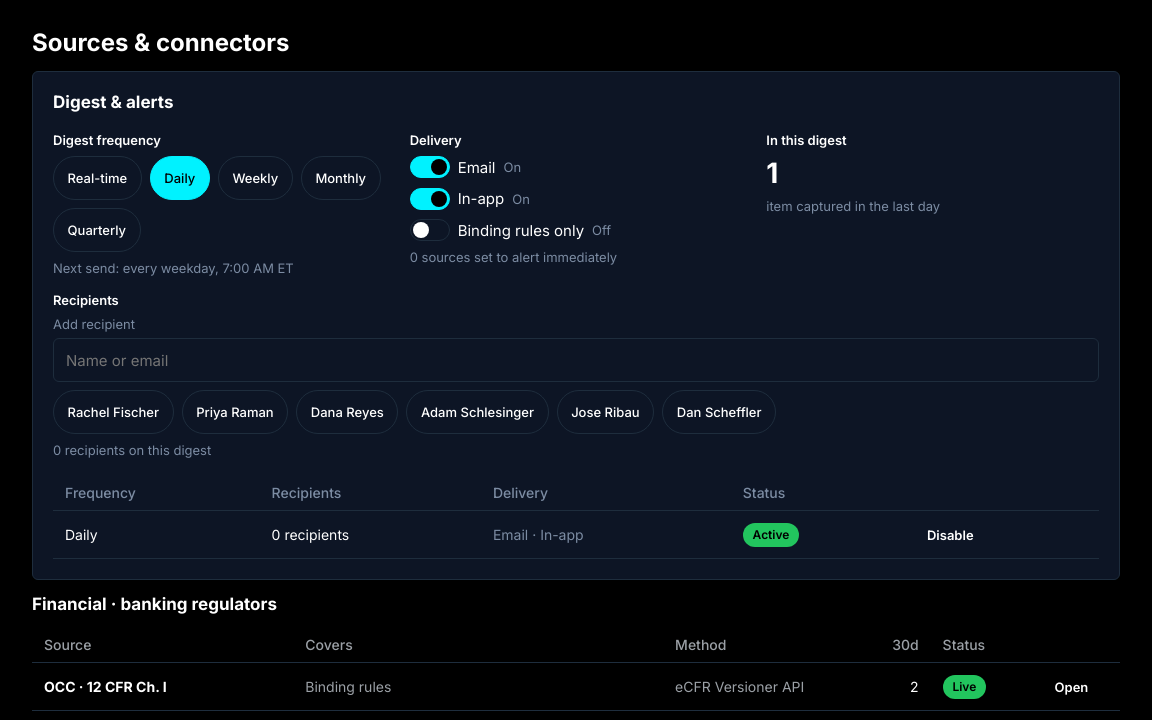
it: Settings · Toggles — digest recipients (D7: AD roster, Chip filter reuse) › the recipient Input reports "no match" rather than adding unconstrained free text
The image size is (1152, 720).
(page scrolled)
Type "nobody@example.com" into the field labelled "Add recipient". click: (576,360)
box: [53, 338, 1099, 382]
Then press Enter
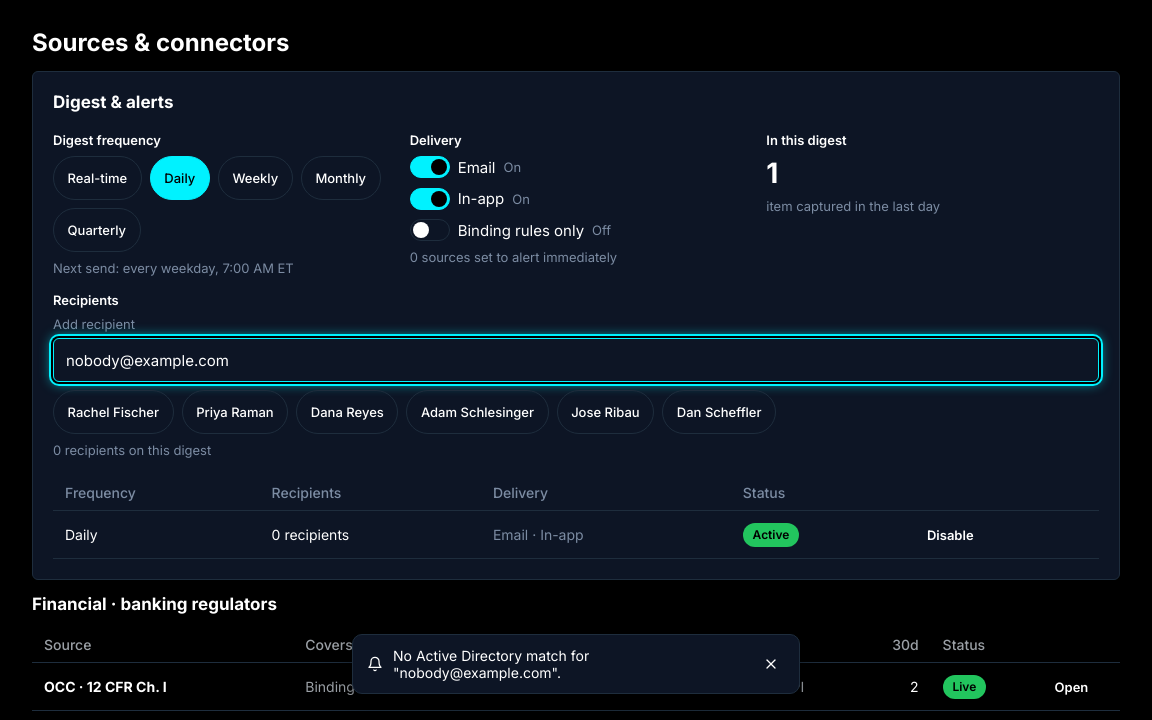
Result: the text "No Active Directory match for \"nobody@example.com\"." is shown at [393, 647, 589, 681]
